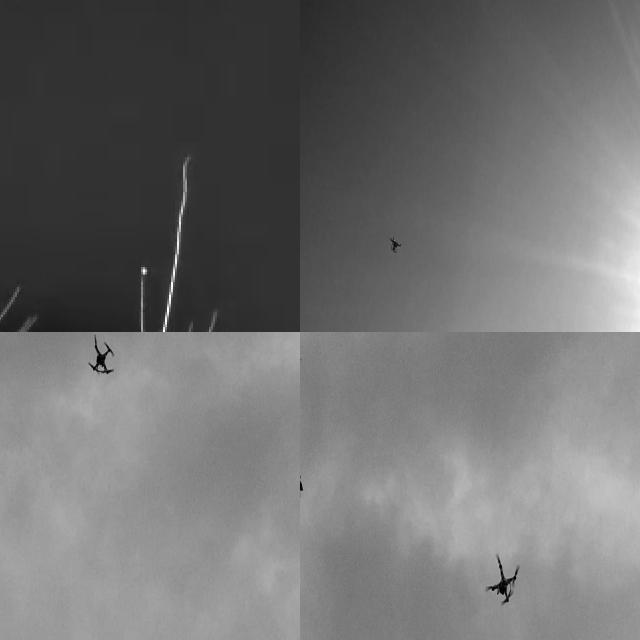0: (133, 260, 157, 282)
drone: (485, 553, 523, 608), (87, 332, 117, 380), (388, 232, 409, 265)
